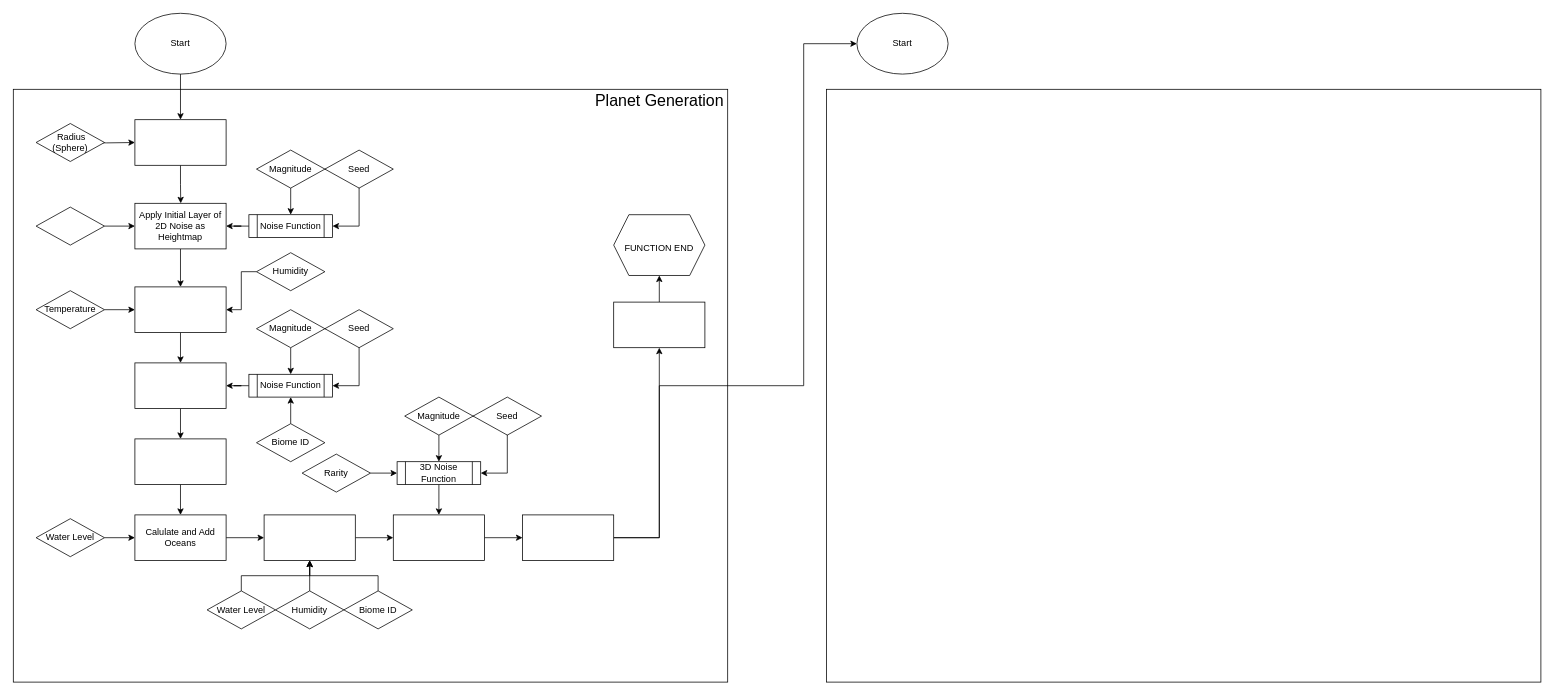
Some shapes in this 1554 by 695 pixel diagram are drawn without their labels. Here are the shapes that lost their labels. From the top down, the centre of each, then its label:
At (x=180, y=142): "Generate Initial Sphere".
At (x=69, y=225): "Radius (Max)".
At (x=180, y=309): "Apply Initial Weather Simulation".
At (x=659, y=324): "Save Chunks to File(s)".
At (x=180, y=385): "Apply Biome Spesific Heightmap Noise".
At (x=1183, y=385): "Rendering".
At (x=180, y=461): "Smooth Biome/Edge Transitions".
At (x=309, y=537): "Calculate and Add Rivers".
At (x=438, y=537): "Carve out Caves".
At (x=568, y=537): "Run Marching Cubes".
